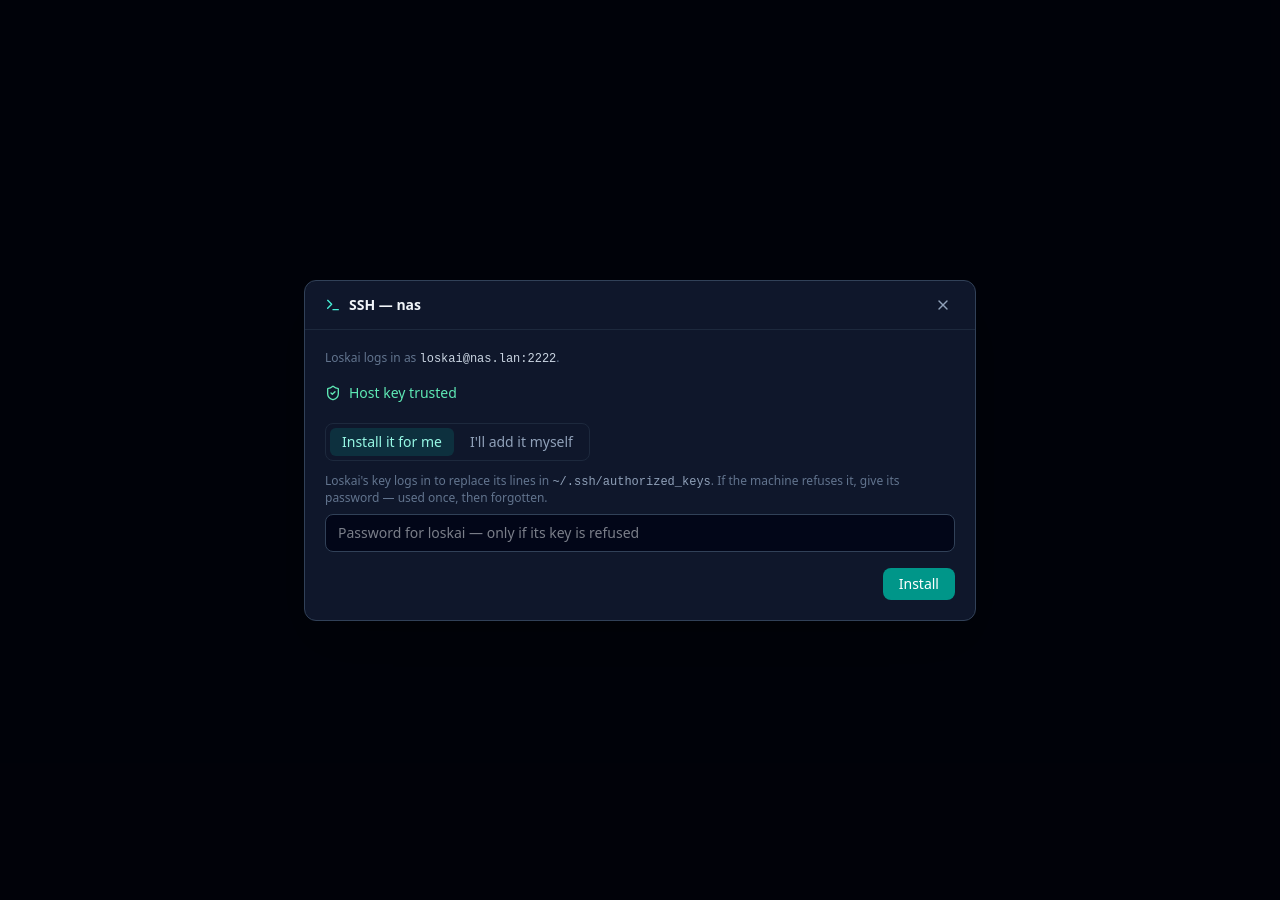
Loskai's key refused, the install again takes the machine's password
Click the button "Install".
click(919, 584)  # box [883,568,955,600]
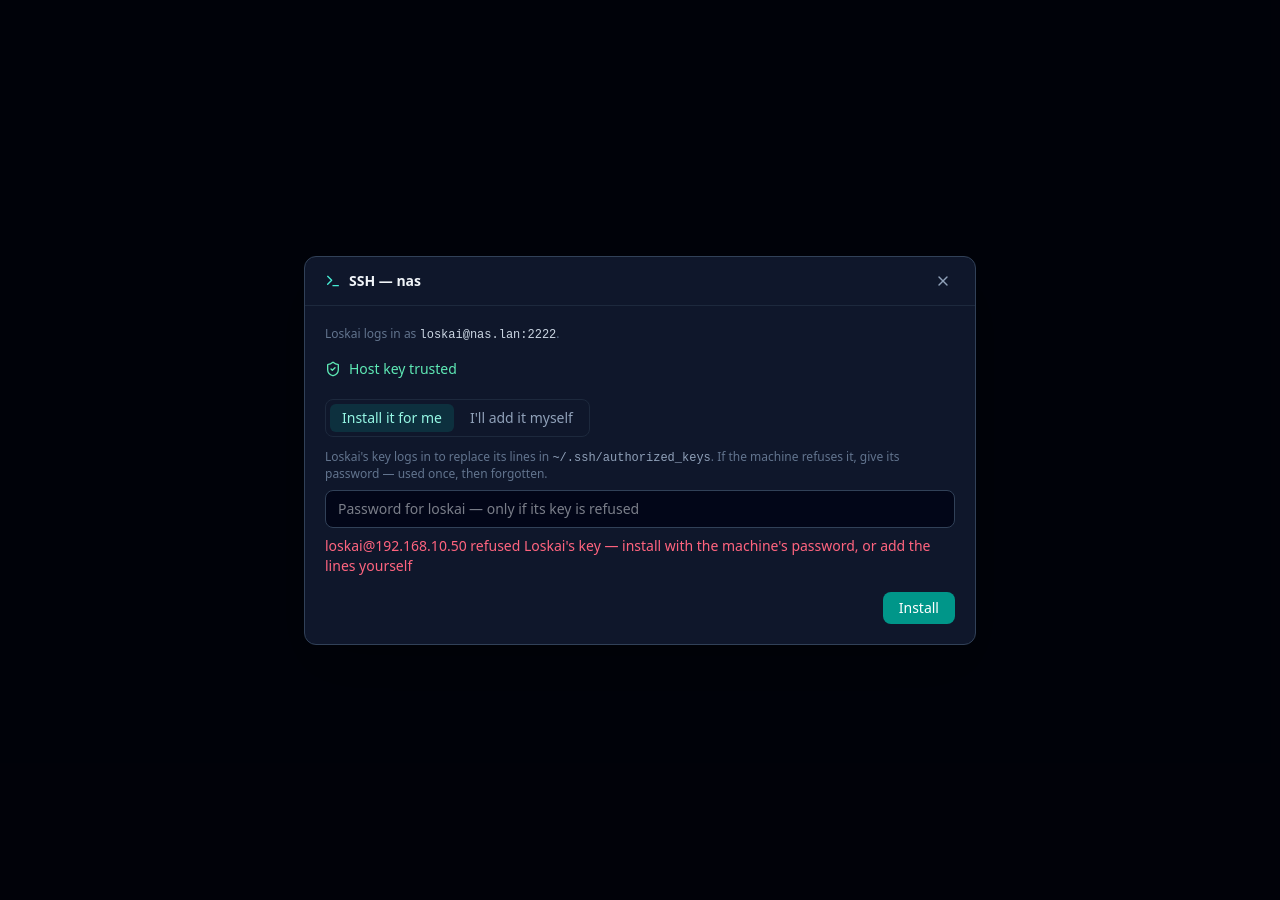
Expected: the text "loskai@192.168.10.50 refused Loskai's key — install with the machine's password, or add the lines yourself" is shown, [325,536,930,574]
Type "machine-pw" into the password field named "Machine password".
click(640, 508); type("machine-pw")  # box [325,490,955,528]
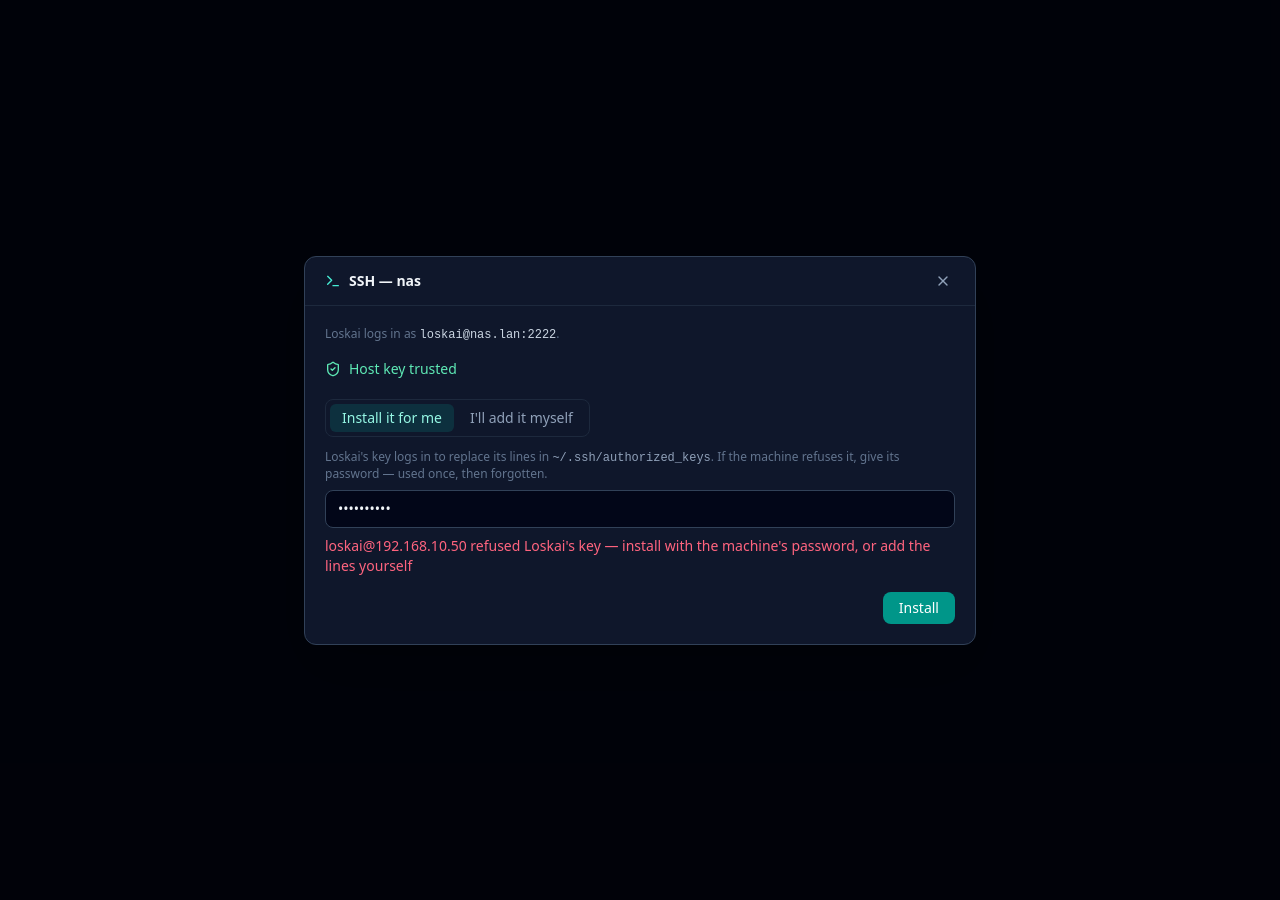
Click the button "Install".
click(919, 608)  # box [883,592,955,624]
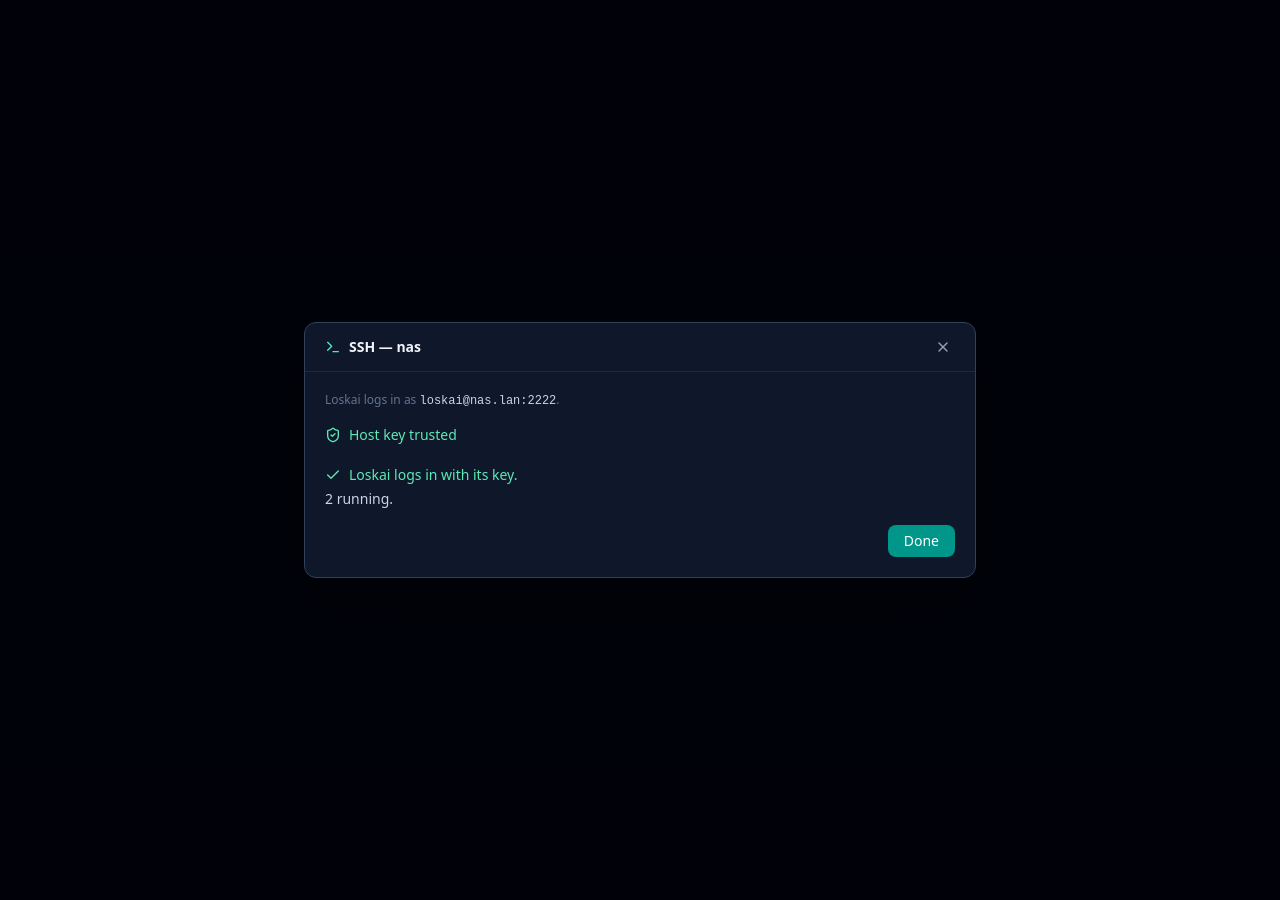
Expected: the text "Loskai logs in with its key." is shown, [325,465,517,484]
